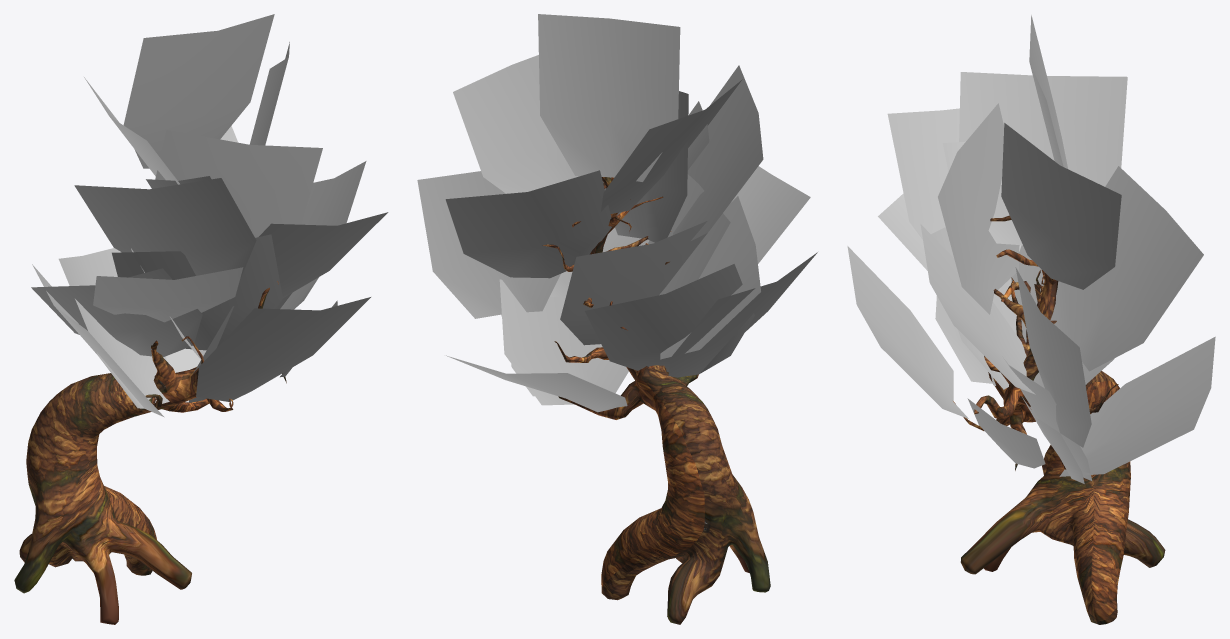
Rendered from oakA.fbx.
The picture shows the model from 3 angles, left to right: view 1: azimuth 30°, elevation 25°; view 2: azimuth 150°, elevation 25°; view 3: azimuth 270°, elevation 25°; orthographic projection. The views are drawn at different scales.
Visible parts, largest first — view 1: oakA1:Group31770, leaf74, leaf65, leaf73, leaf76, leaf66, leaf60, leaf62, leaf75, leaf69, leaf63, leaf61 (+3 smaller); view 2: oakA1:Group31770, leaf74, leaf72, leaf61, leaf69, leaf63, leaf70, leaf65, leaf59, leaf71, leaf68, leaf73 (+6 smaller); view 3: oakA1:Group31770, leaf72, leaf71, leaf61, leaf67, leaf73, leaf76, leaf65, leaf75, leaf63, leaf57, leaf74 (+6 smaller).
Part boxes in pixels (x1=…): oakA1:Group31770: x1=14, y1=281, x2=286, y2=624; leaf74: x1=123, y1=14, x2=274, y2=168; leaf65: x1=74, y1=178, x2=256, y2=277; leaf73: x1=155, y1=130, x2=322, y2=237; leaf76: x1=196, y1=297, x2=370, y2=401; leaf66: x1=112, y1=234, x2=282, y2=350; leaf60: x1=93, y1=267, x2=243, y2=322; leaf62: x1=31, y1=268, x2=202, y2=357; leaf75: x1=259, y1=212, x2=388, y2=297; leaf69: x1=58, y1=248, x2=169, y2=408; leaf63: x1=280, y1=161, x2=366, y2=309; leaf61: x1=249, y1=42, x2=289, y2=145; oakA1:Group31770: x1=542, y1=177, x2=770, y2=624; leaf74: x1=538, y1=14, x2=680, y2=181; leaf72: x1=445, y1=170, x2=611, y2=278; leaf61: x1=453, y1=55, x2=578, y2=193; leaf69: x1=585, y1=264, x2=754, y2=373; leaf63: x1=417, y1=171, x2=560, y2=318; leaf70: x1=560, y1=221, x2=707, y2=345; leaf65: x1=673, y1=65, x2=763, y2=240; leaf59: x1=499, y1=279, x2=628, y2=405; leaf71: x1=601, y1=79, x2=742, y2=213; leaf68: x1=668, y1=252, x2=817, y2=377; leaf73: x1=602, y1=91, x2=688, y2=242; oakA1:Group31770: x1=953, y1=215, x2=1165, y2=624; leaf72: x1=1050, y1=166, x2=1203, y2=371; leaf71: x1=959, y1=72, x2=1127, y2=245; leaf61: x1=1001, y1=123, x2=1121, y2=289; leaf67: x1=1059, y1=336, x2=1215, y2=476; leaf73: x1=938, y1=103, x2=1019, y2=314; leaf76: x1=847, y1=246, x2=968, y2=418; leaf65: x1=887, y1=108, x2=1021, y2=251; leaf75: x1=920, y1=224, x2=1035, y2=394; leaf63: x1=1015, y1=267, x2=1091, y2=447; leaf57: x1=967, y1=398, x2=1045, y2=468; leaf74: x1=1029, y1=15, x2=1067, y2=168.
Bounding box in the file's own units: 1016 × 1553 × 875.
